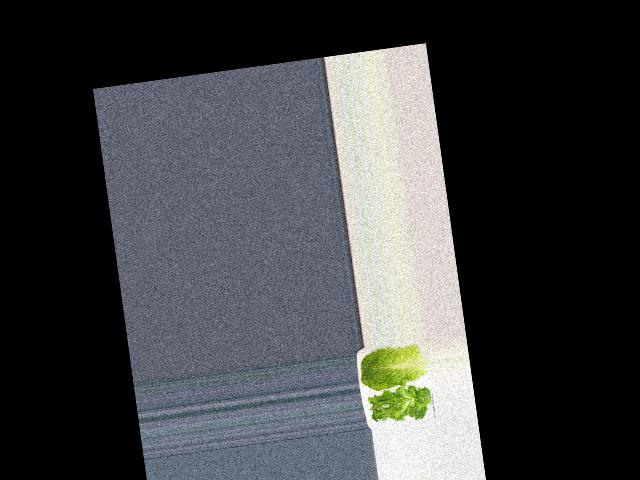lettuce: (366, 384, 432, 429)
